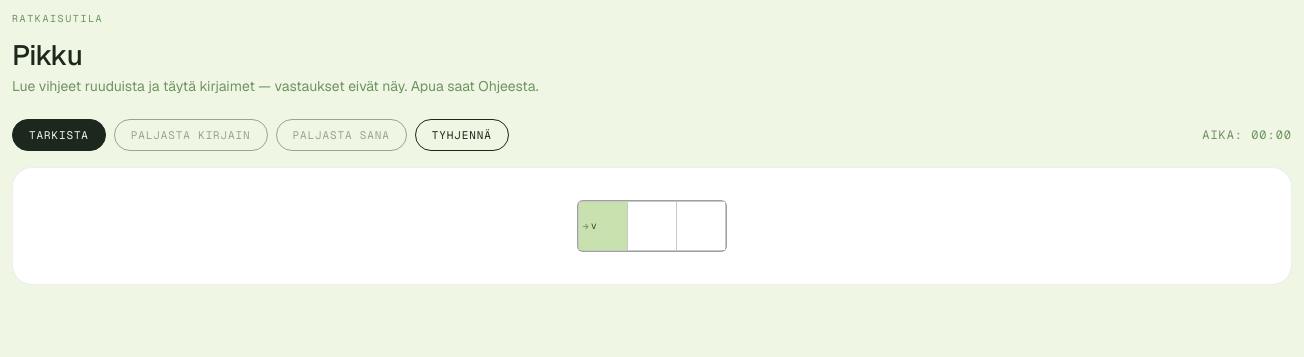
Scenario: SolveMode — check / reveal / completion / resume › reveals a whole word and detects completion
This screenshot has width=1304, height=357.
Expected: the text "Valmis! Ristikko on oikein." is not shown
Click the 2nd cell.
click(652, 226)  # box [628, 202, 676, 250]
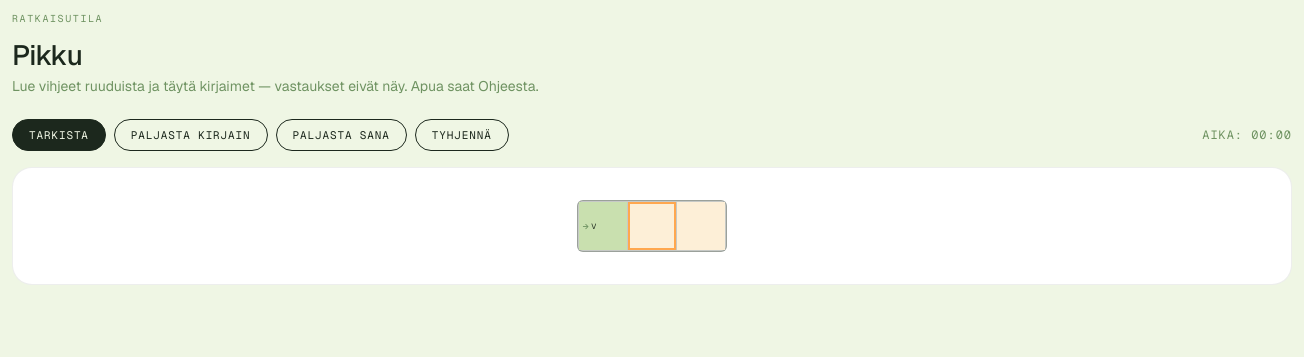
Click the button "Paljasta sana".
click(341, 135)  # box [276, 119, 407, 151]
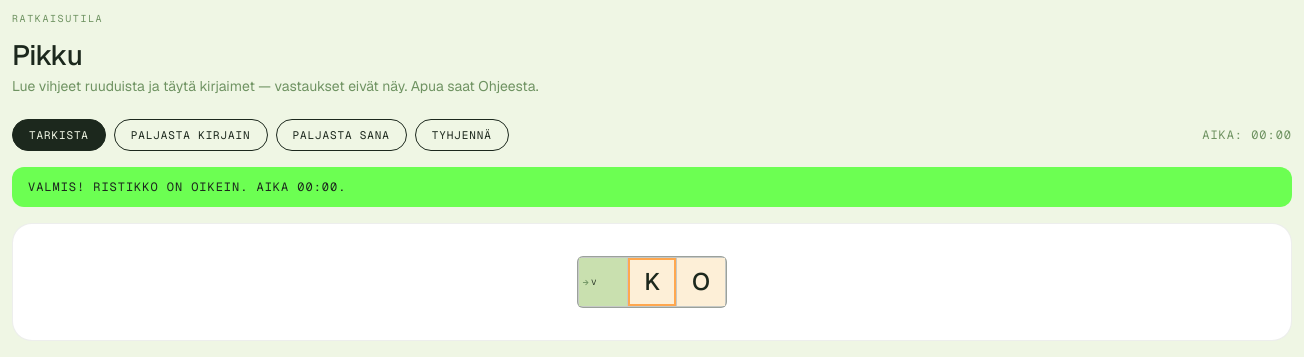
Expected: the cell "K" is shown, [628, 258, 676, 306]
Expected: the cell "O" is shown, [677, 258, 725, 306]
Expected: the text "Valmis! Ristikko on oikein. Aika 00:00." is shown, [12, 167, 1292, 207]
